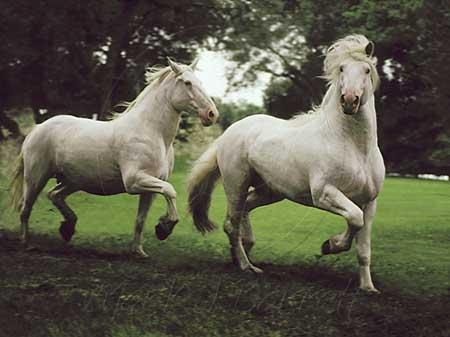horse: (185, 33, 385, 294), (5, 55, 219, 259)
